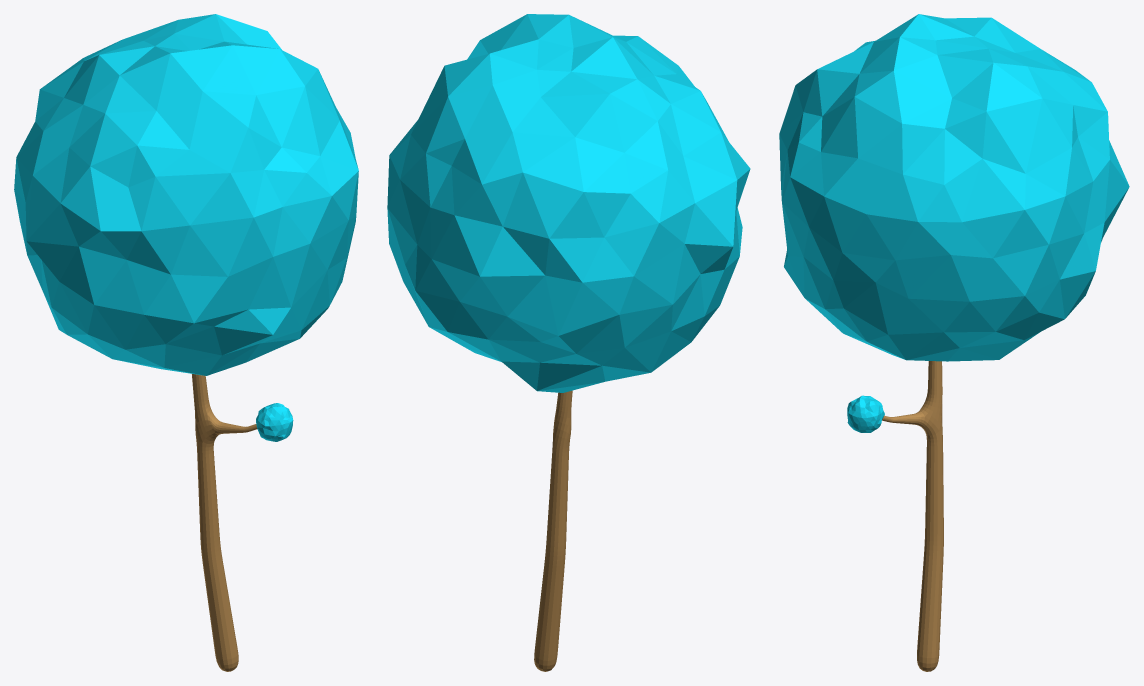
File: Tree2.glb
3 renders of one model, left to right at view 1: azimuth 30°, elevation 25°; view 2: azimuth 150°, elevation 25°; view 3: azimuth 270°, elevation 25°, orthographic. The views are drawn at different scales.
Parts seen in each view (by area): view 1: Icosphere.001, Plane, Icosphere; view 2: Icosphere.001, Plane; view 3: Icosphere.001, Plane, Icosphere.
Part boxes in pixels (bbox=[...]): Icosphere.001: bbox=[14, 14, 358, 375]; Plane: bbox=[192, 374, 257, 671]; Icosphere: bbox=[256, 403, 293, 441]; Icosphere.001: bbox=[387, 14, 750, 392]; Plane: bbox=[534, 390, 572, 671]; Icosphere.001: bbox=[779, 14, 1129, 361]; Plane: bbox=[882, 361, 943, 671]; Icosphere: bbox=[847, 395, 884, 432].
Size of the model in its own units: 1.04 by 2.03 by 1.03.
